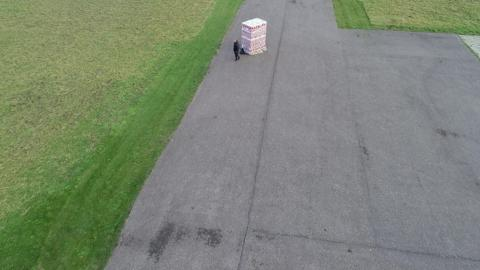RockwoolPallet: (241, 14, 268, 52)
